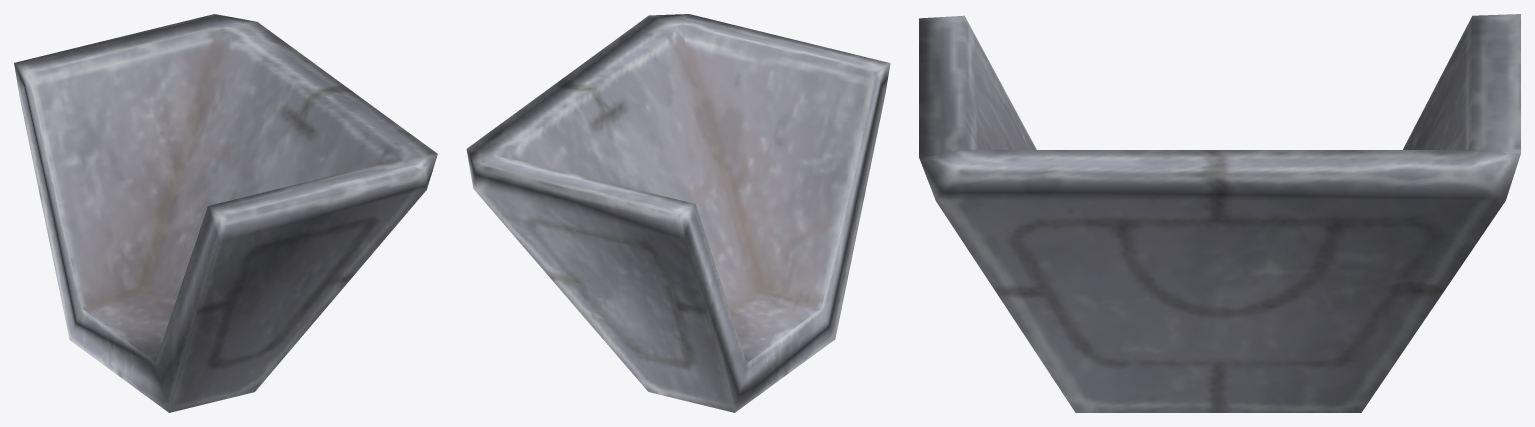
The model's file is Asset_WallLamp_01.fbx.
3 views of the same model, side by side, from view 1: azimuth 30°, elevation 25°; view 2: azimuth 150°, elevation 25°; view 3: azimuth 270°, elevation 25° (orthographic). The views are drawn at different scales.
Visible parts, largest first — view 1: Asset_WallLamp_01; view 2: Asset_WallLamp_01; view 3: Asset_WallLamp_01.
Boxes of the visible parts, x1,y1,x2,y2 form: Asset_WallLamp_01: (14,14,437,412); Asset_WallLamp_01: (466,14,890,412); Asset_WallLamp_01: (919,14,1520,412).
Size of the model in its own units: 123 by 123 by 198.
